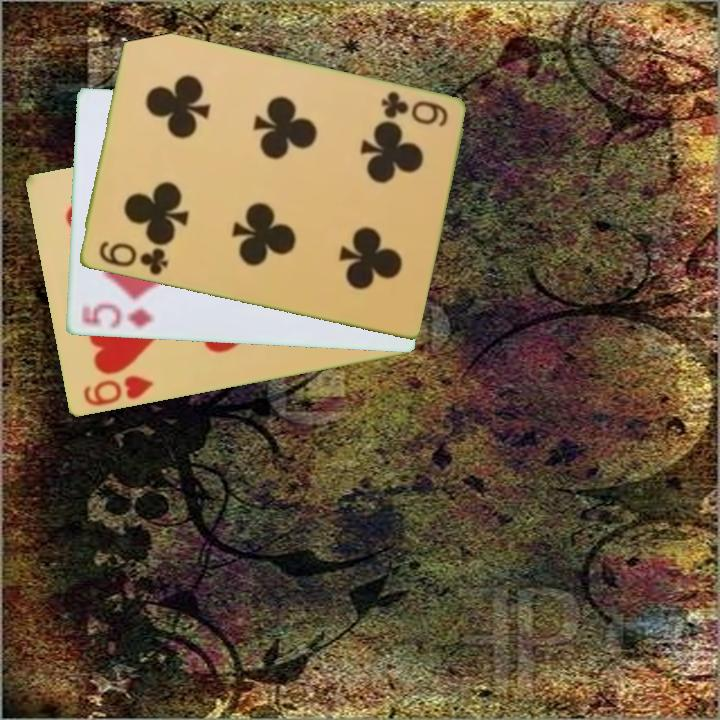5d: (77, 300, 155, 332)
6c: (94, 238, 171, 279), (377, 88, 450, 130)
6h: (79, 372, 156, 410)
